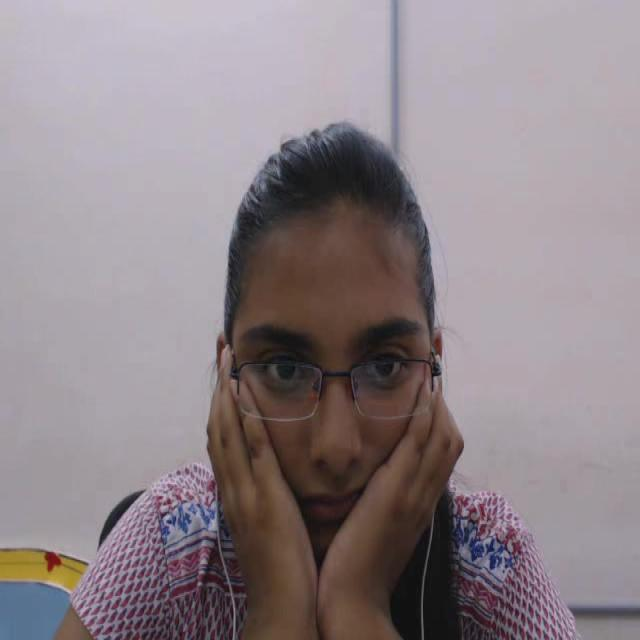Bored: (204, 104, 457, 558)
